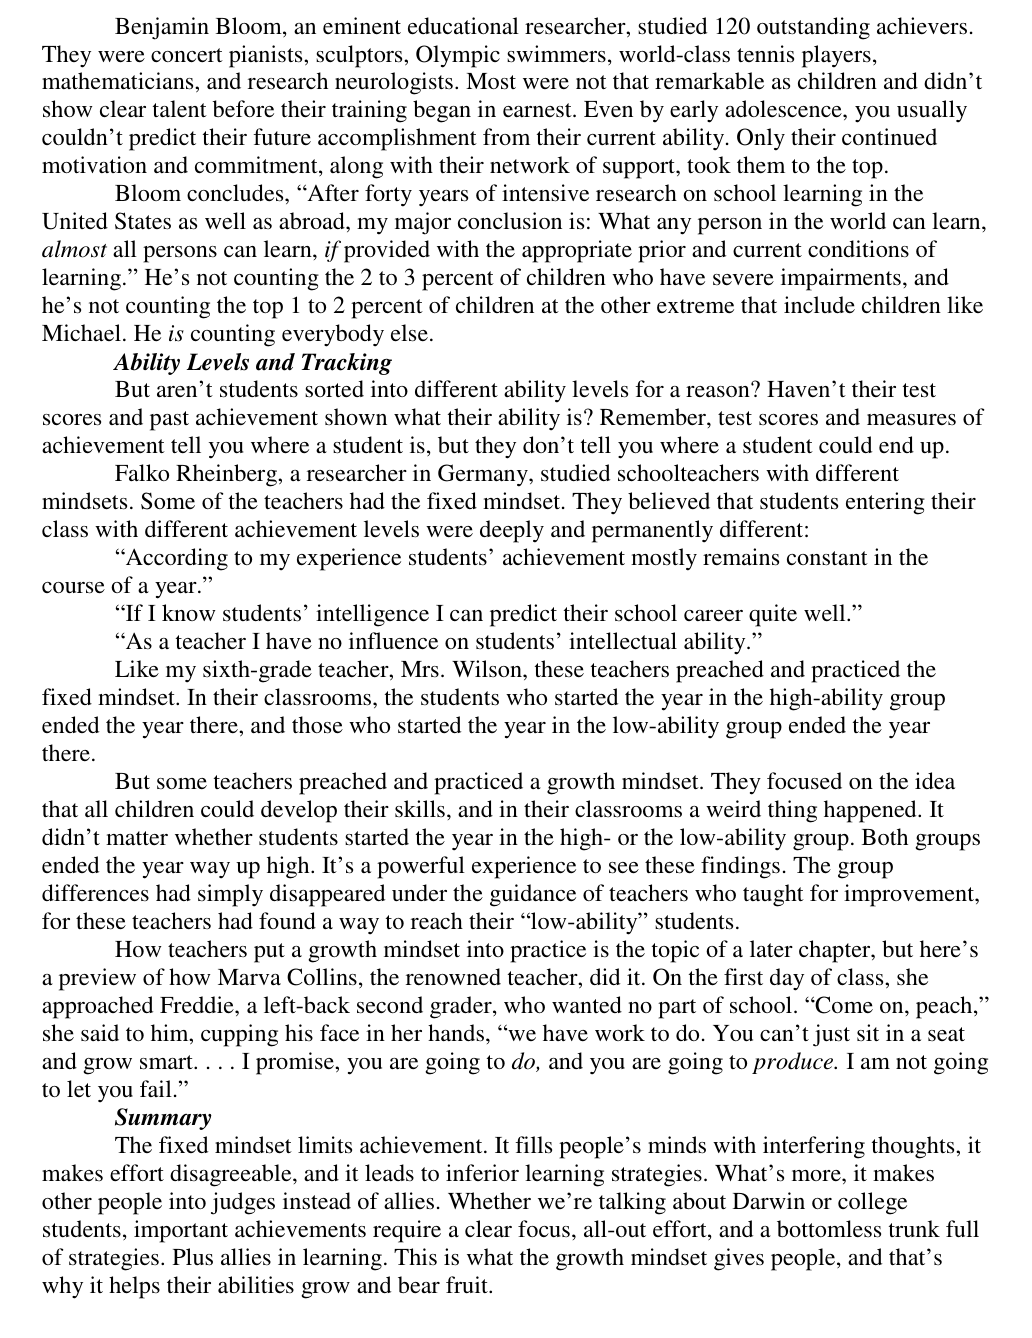latin: (33, 458, 982, 653), (38, 1104, 982, 1300), (34, 767, 986, 939), (30, 939, 995, 1104), (28, 180, 988, 345), (36, 14, 984, 180), (37, 653, 949, 764), (38, 375, 986, 458), (111, 351, 394, 375)
